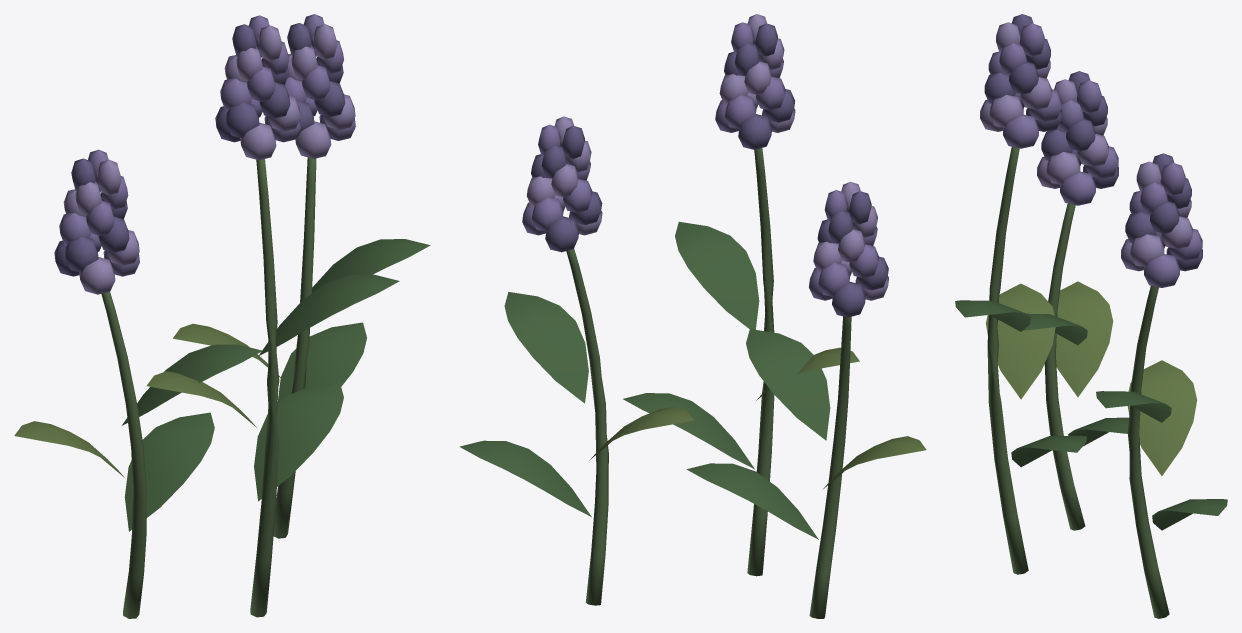
File: lavender.glb
3 views of the same model, side by side, from view 1: azimuth 30°, elevation 25°; view 2: azimuth 150°, elevation 25°; view 3: azimuth 270°, elevation 25° (orthographic). The views are drawn at different scales.
Parts seen in each view (by area): view 1: Flower_mesh.002; view 2: Flower_mesh.002; view 3: Flower_mesh.002.
Boxes of the visible parts, x1,y1,x2,y2 form: Flower_mesh.002: (14,14,430,618); Flower_mesh.002: (459,14,926,618); Flower_mesh.002: (955,14,1227,618).
Bounding box in the file's own units: 0.5791 × 0.7602 × 0.3399.
